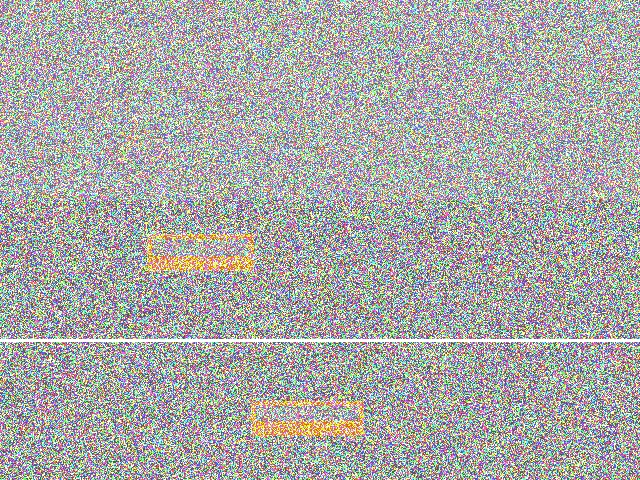bus: (288, 301, 444, 392)
motorcycle: (412, 198, 512, 298)
truck: (233, 203, 401, 269)
